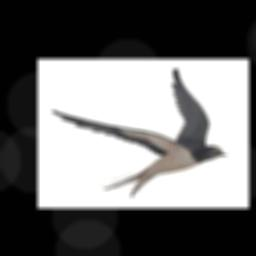Swallow: (51, 68, 228, 196)
